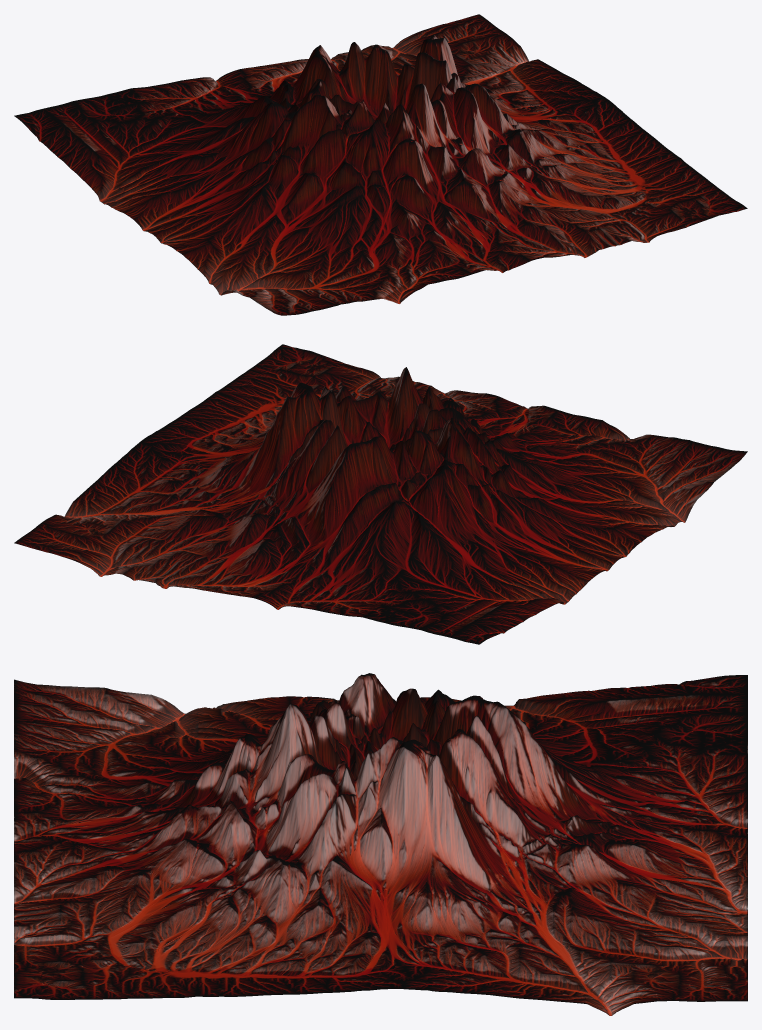
The model's file is rocky_hell_terrain.glb.
3 views of the same model, one above another, from view 1: azimuth 30°, elevation 25°; view 2: azimuth 150°, elevation 25°; view 3: azimuth 270°, elevation 25° (orthographic). The views are drawn at different scales.
Parts seen in each view (by area): view 1: Object_5, Object_4, Object_2, Object_3, Object_6, Object_7; view 2: Object_2, Object_5, Object_3, Object_4, Object_6, Object_7; view 3: Object_2, Object_3, Object_5, Object_6, Object_4, Object_7.
Boxes of the visible parts, left/top/right/bottom form: Object_5: left=101, top=91, right=738, bottom=315; Object_4: left=98, top=83, right=718, bottom=281; Object_2: left=14, top=14, right=747, bottom=227; Object_3: left=67, top=44, right=668, bottom=257; Object_6: left=241, top=34, right=580, bottom=186; Object_7: left=88, top=36, right=623, bottom=230; Object_2: left=14, top=344, right=563, bottom=644; Object_5: left=172, top=348, right=747, bottom=602; Object_3: left=94, top=386, right=545, bottom=615; Object_4: left=191, top=362, right=671, bottom=604; Object_6: left=138, top=382, right=521, bottom=541; Object_7: left=103, top=384, right=606, bottom=605; Object_2: left=14, top=675, right=747, bottom=1015; Object_3: left=16, top=689, right=610, bottom=996; Object_5: left=14, top=679, right=561, bottom=997; Object_6: left=335, top=673, right=540, bottom=985; Object_4: left=14, top=696, right=559, bottom=997; Object_7: left=335, top=691, right=564, bottom=995.
Bounding box in the file's own units: 10230 × 2624 × 10230.
Materials: 1 (1 with a texture image).
